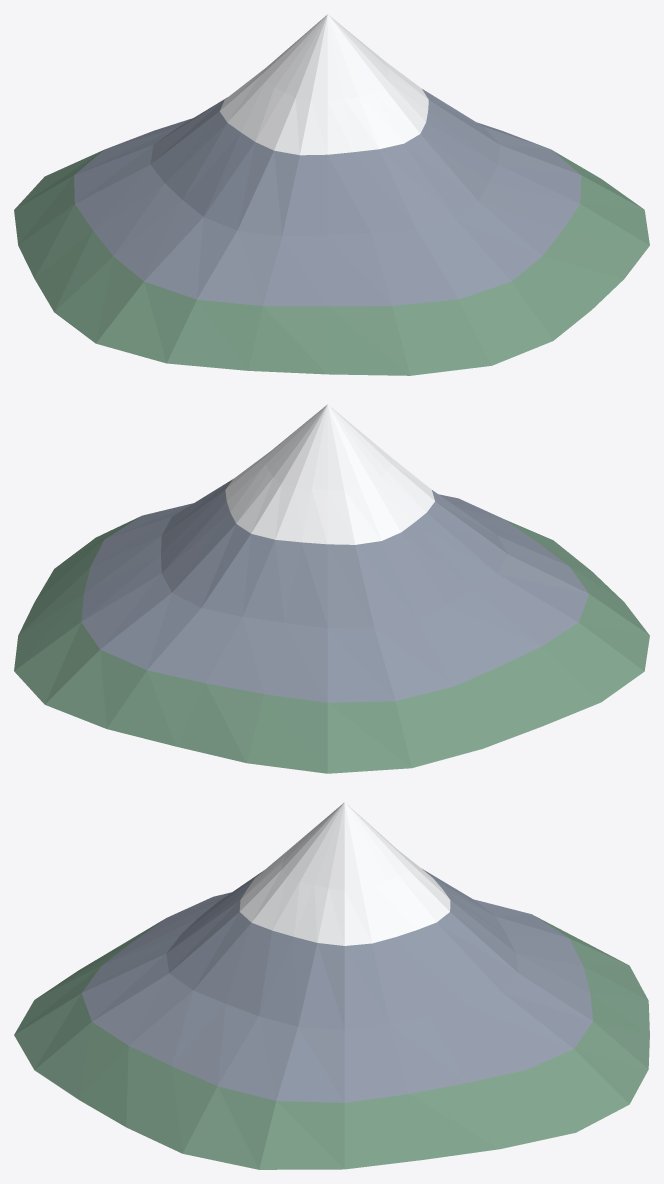
Rendered from mountain_volcano_cone.glb.
3 views of the same model, one above another, from view 1: azimuth 30°, elevation 25°; view 2: azimuth 150°, elevation 25°; view 3: azimuth 270°, elevation 25° (orthographic).
Visible parts, largest first — view 1: mountain_volcano_cone; view 2: mountain_volcano_cone; view 3: mountain_volcano_cone.
Part boxes in pixels (x1,y1,x2,y2): mountain_volcano_cone: (14, 14, 649, 375); mountain_volcano_cone: (14, 404, 649, 773); mountain_volcano_cone: (14, 802, 649, 1169).
Size of the model in its own units: 943 by 380 by 940.
